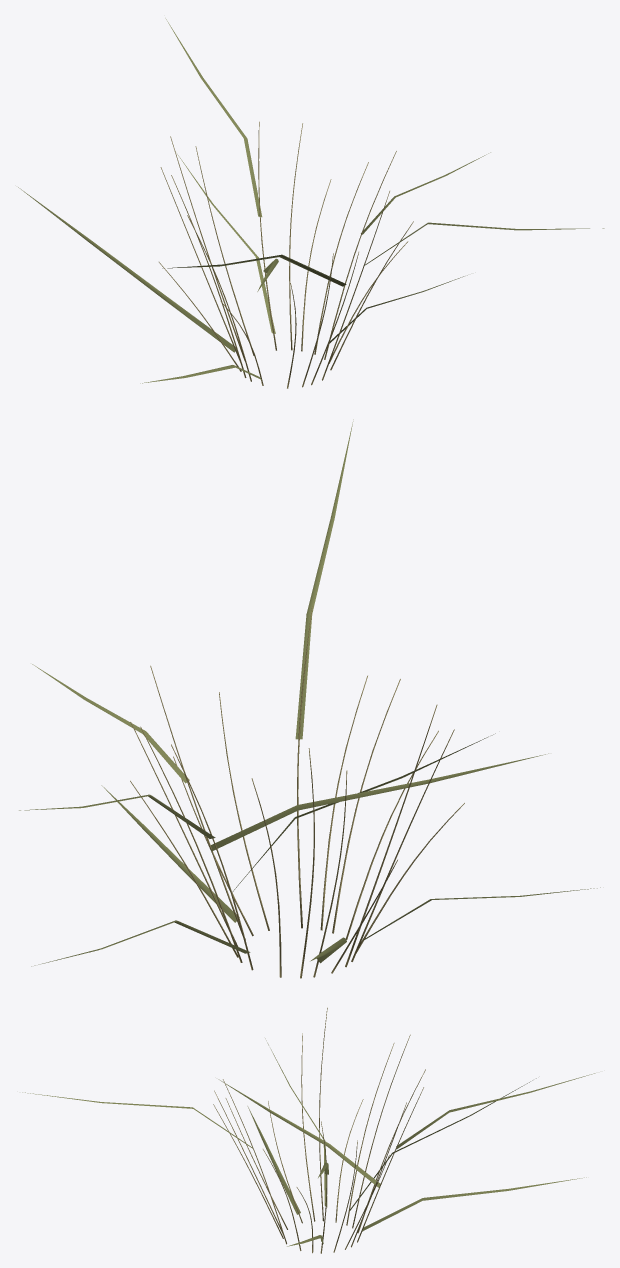
File: Herbes_2_Niveau2.fbx
The picture shows the model from 3 angles, top to bottom: view 1: azimuth 30°, elevation 25°; view 2: azimuth 150°, elevation 25°; view 3: azimuth 270°, elevation 25°; orthographic projection. The views are drawn at different scales.
Parts seen in each view (by area): view 1: Herbes_2_Niveau2_Jeu; view 2: Herbes_2_Niveau2_Jeu; view 3: Herbes_2_Niveau2_Jeu.
Boxes of the visible parts, x1=… form: Herbes_2_Niveau2_Jeu: x1=18, y1=18, x2=604, y2=388; Herbes_2_Niveau2_Jeu: x1=19, y1=419, x2=600, y2=978; Herbes_2_Niveau2_Jeu: x1=22, y1=1007, x2=595, y2=1253.
Size of the model in its own units: 66.22 by 38.37 by 101.
